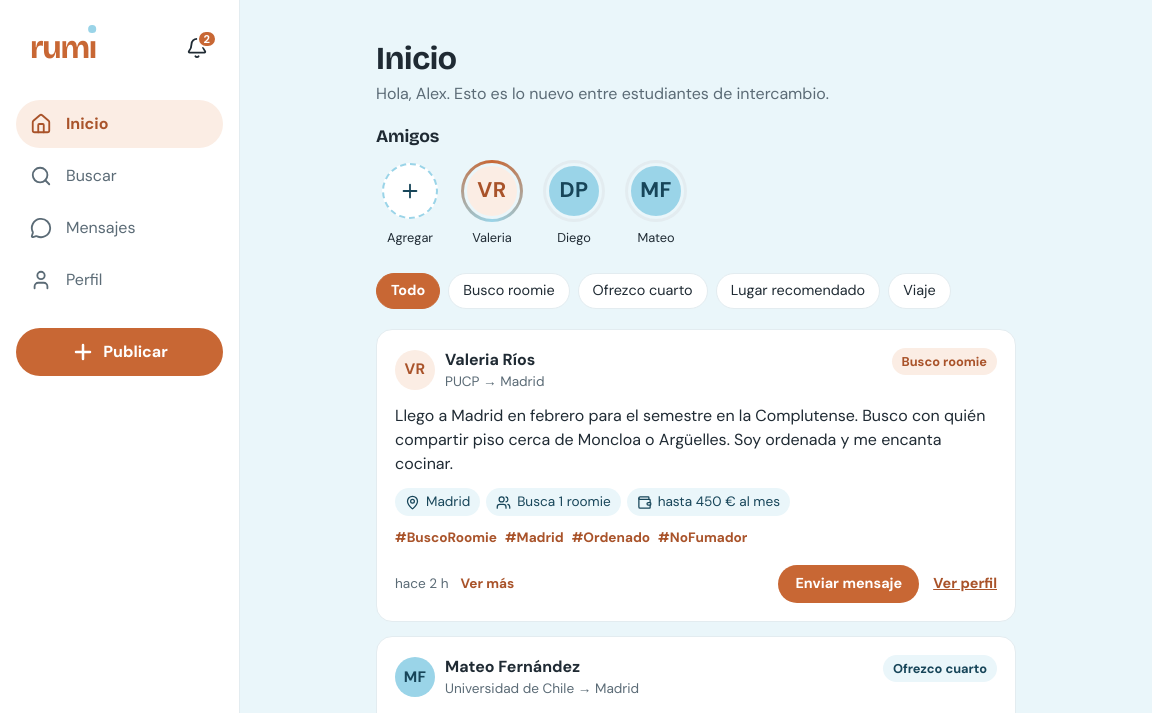
abrir el chat marca como leído y el anillo desaparece del inicio
The image size is (1152, 713).
Click the button with aria-label "Valeria Ríos, mensajes sin leer". click: (492, 203)
box: [458,160,526,247]
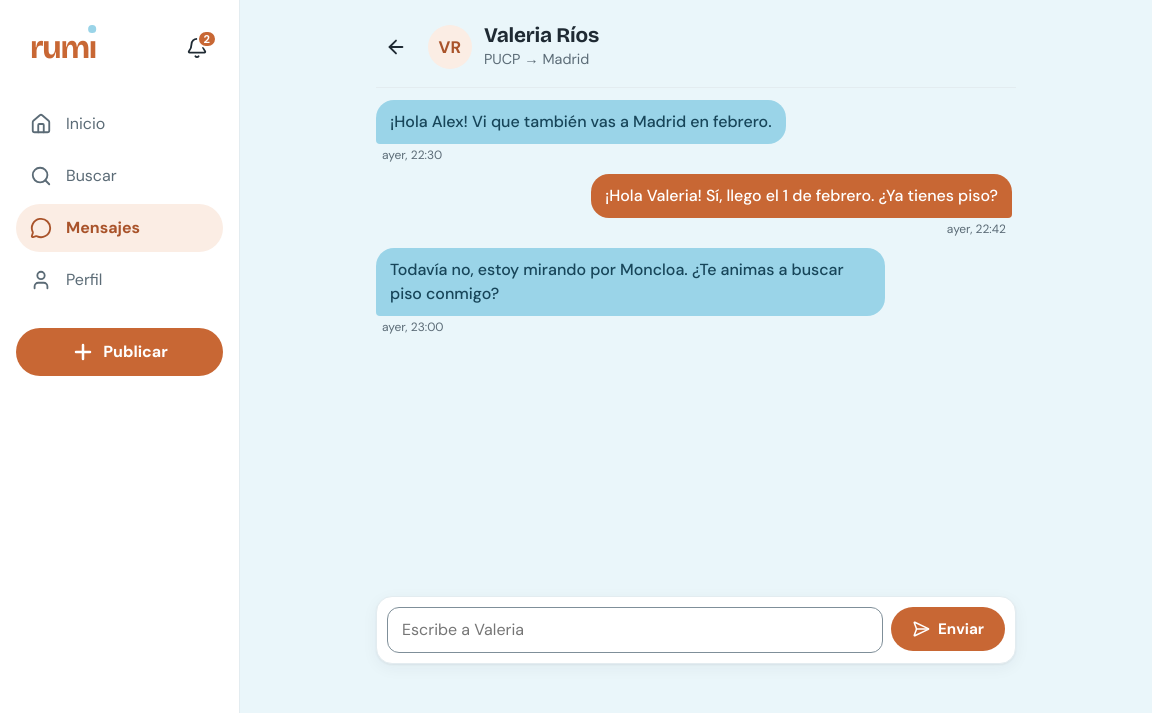
Check: the heading "Valeria Ríos" is shown, box [484,24,599,49]
Click the link "Inicio". click: (68, 124)
box: [30,113,105,135]
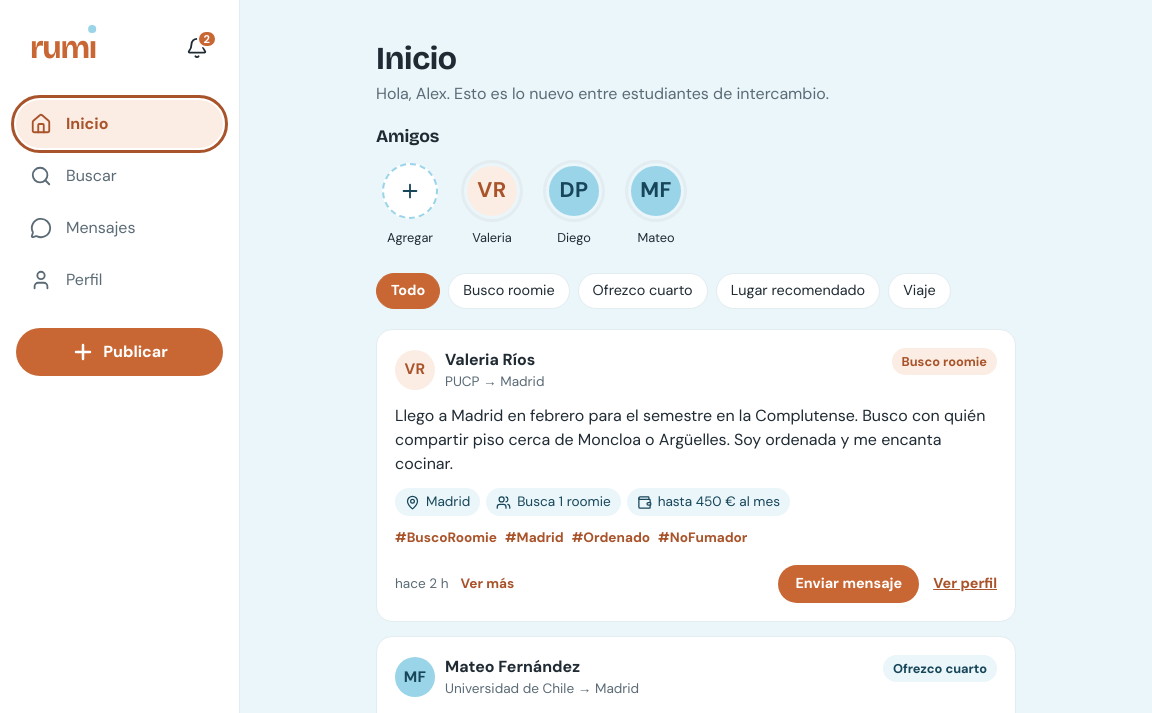
Check: the button with aria-label "Valeria Ríos" is shown, box [458,160,526,247]
